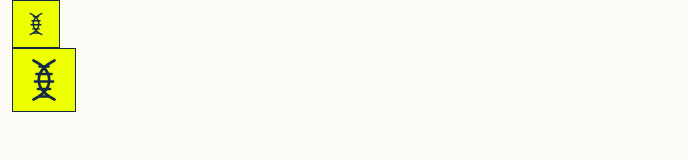
keeps the biology DNA icon decorative in catalogue cards but interactive on the course page
Click the button named "Descobrir o símbolo de Biologia" at (44, 80), box [12,48,76,112]
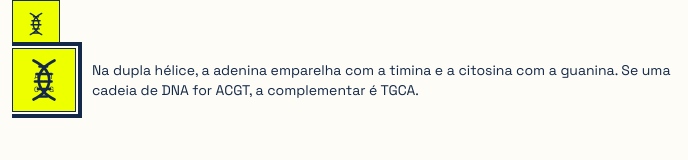
Now the button named "Descobrir o símbolo de Biologia" is expanded, box [12,48,76,112]
